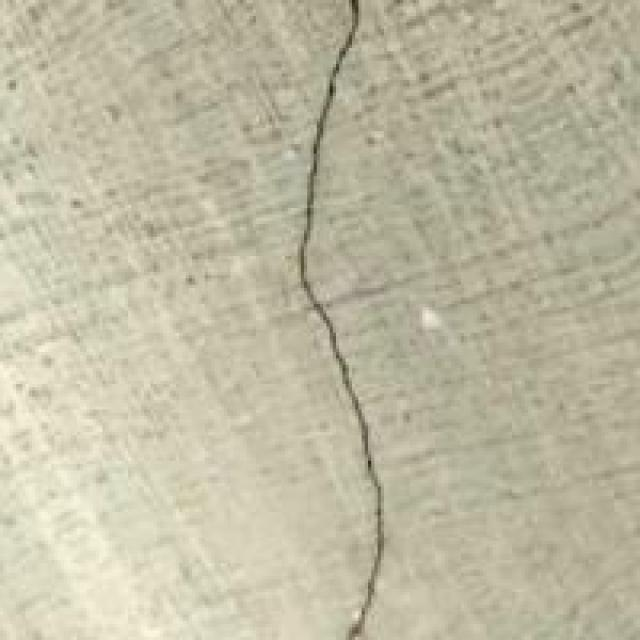crack: (278, 0, 400, 637)
